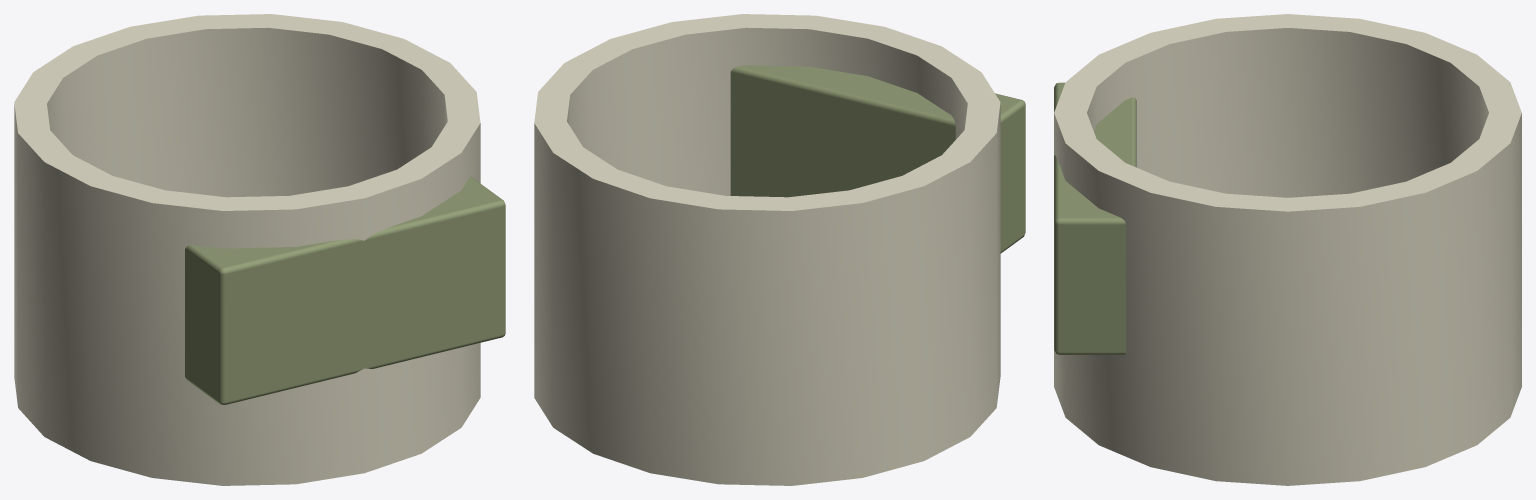
File: field-medicine-and-recovery-neck-support-a32da742__3045.glb
3 renders of one model, left to right at view 1: azimuth 30°, elevation 25°; view 2: azimuth 150°, elevation 25°; view 3: azimuth 270°, elevation 25°, orthographic.
Parts seen in each view (by area): view 1: neck-support; view 2: neck-support; view 3: neck-support.
Boxes of the visible parts, x1,y1,x2,y2 form: neck-support: (14, 14, 505, 485); neck-support: (534, 14, 1025, 485); neck-support: (1054, 14, 1521, 485).
Bounding box in the file's own units: 0.17 × 0.11 × 0.17.
